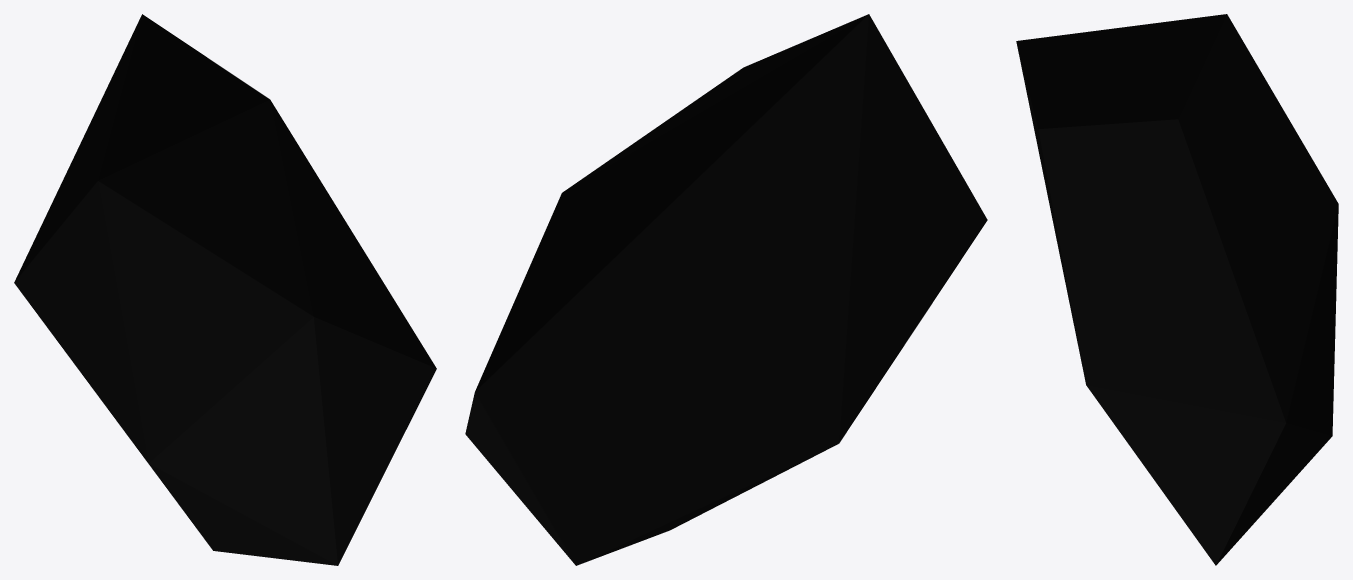
3 views of the same model, side by side, from view 1: azimuth 30°, elevation 25°; view 2: azimuth 150°, elevation 25°; view 3: azimuth 270°, elevation 25° (orthographic). The views are drawn at different scales.
Size of the model in its own units: 0.1728 by 0.2167 by 0.1326.
1 material, 1 textured.
